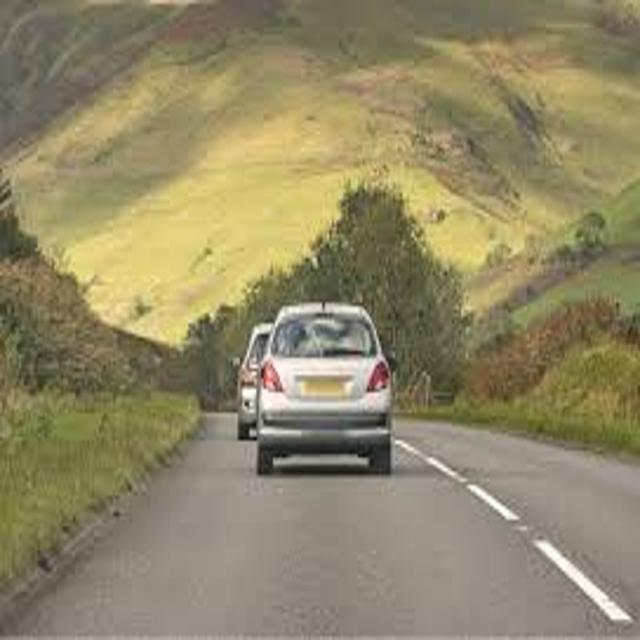car: (255, 304, 392, 473), (233, 325, 277, 438)
